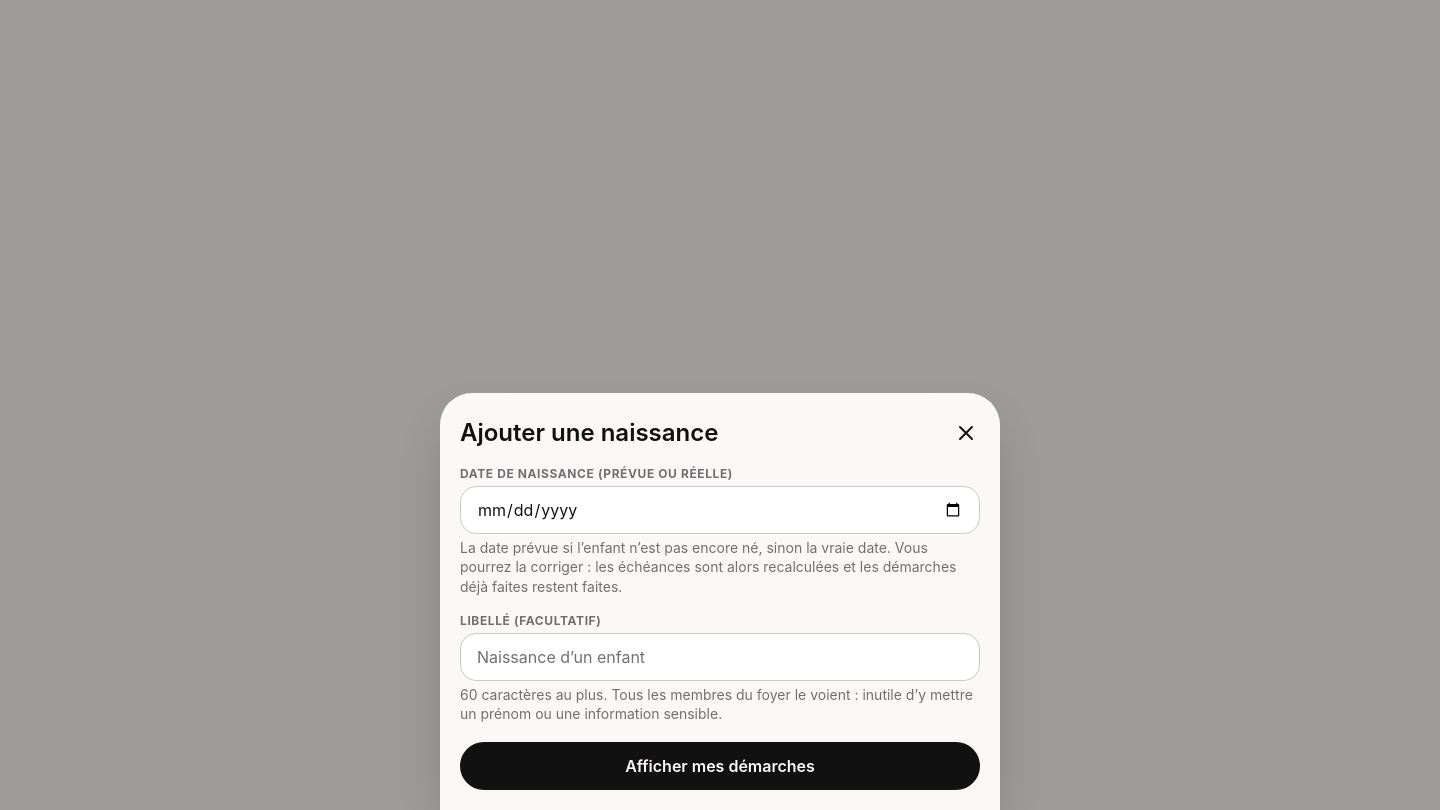
it: LifeEventForm (new birth) › refuses a date outside the window, naming the window
The image size is (1440, 810).
Type "2029-01-01" into the date field labelled "Date de naissance (prévue ou réelle)" at (720, 510), box x1=460 y1=486 x2=980 y2=534
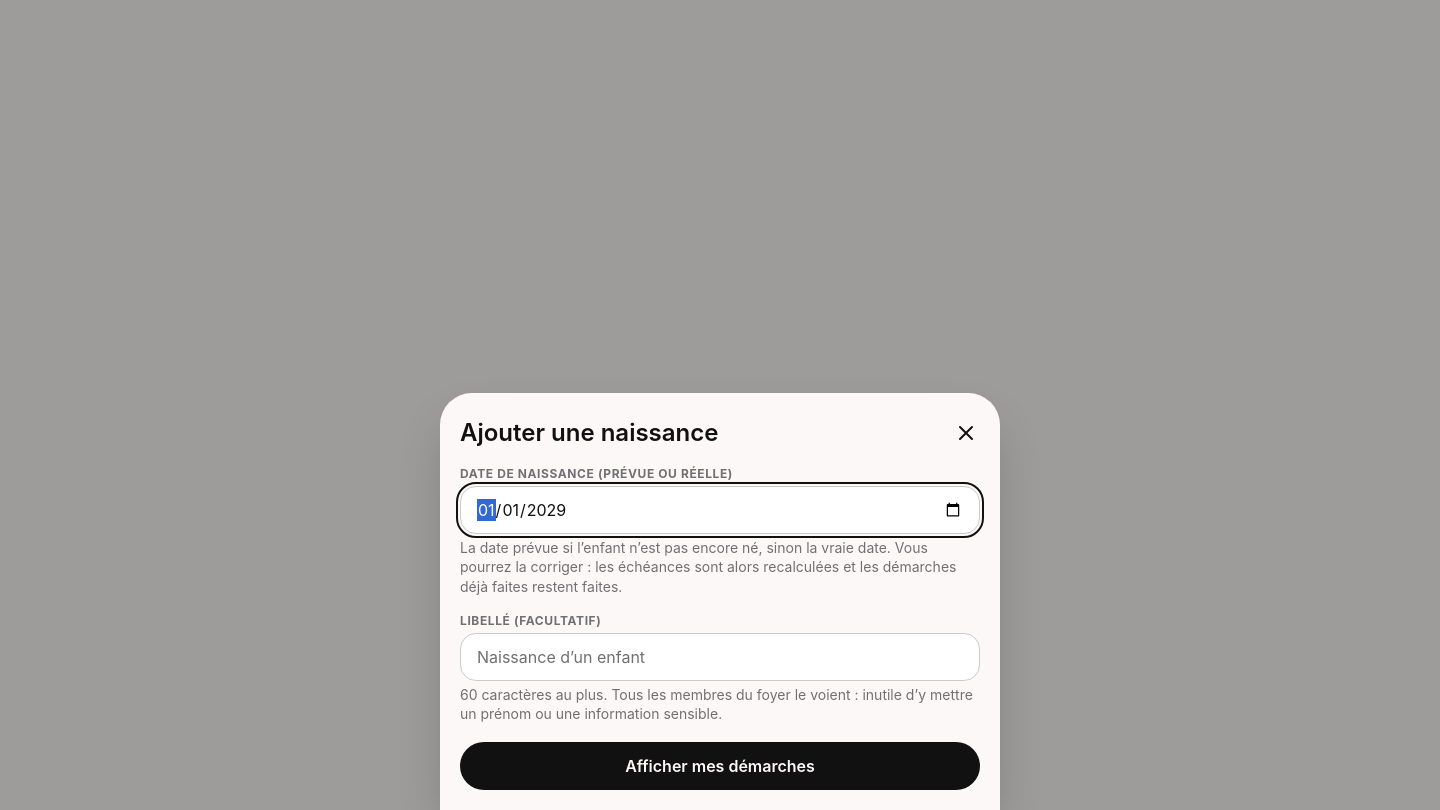
Click the button "Afficher mes démarches" at (720, 766), box x1=460 y1=742 x2=980 y2=790
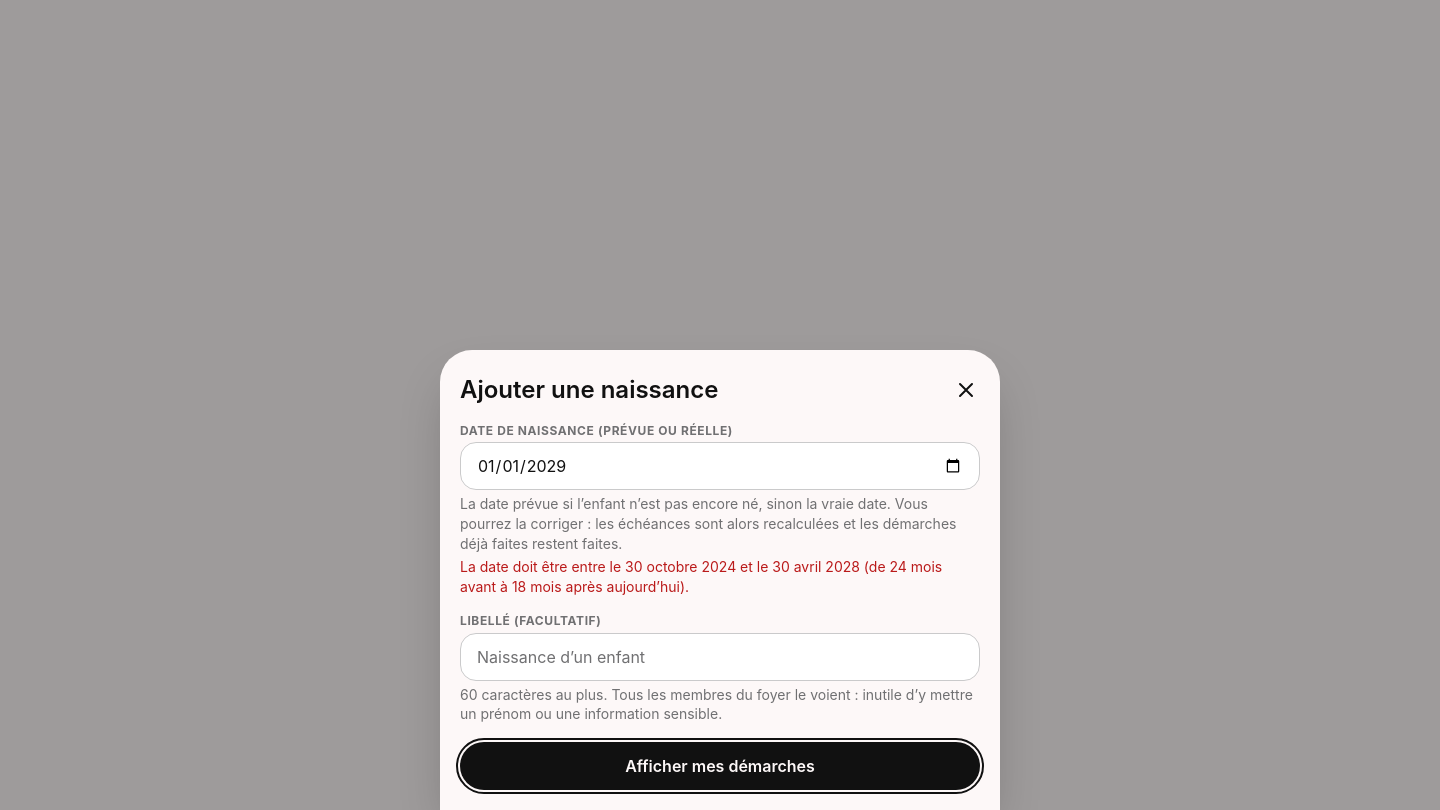
expect the message shows "entre le 30 octobre 2024 et le 30 avril 2028": met, box x1=460 y1=558 x2=942 y2=595
